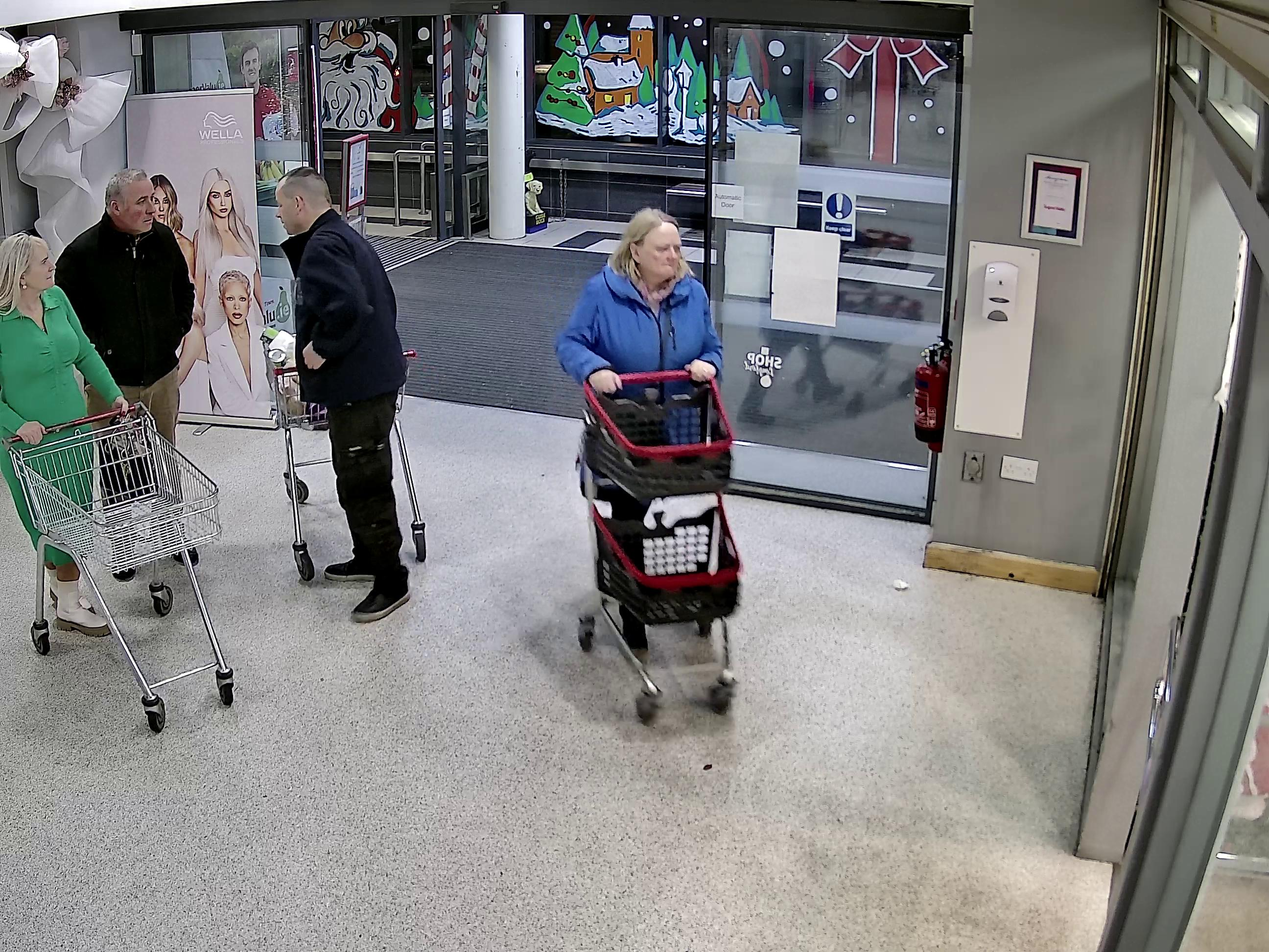empty-trolly: (4, 399, 235, 733), (582, 366, 744, 724)
filled-trolly: (266, 333, 425, 580)
person: (553, 208, 725, 655), (275, 167, 412, 625), (0, 234, 127, 634)
person-with-empty-basket-trolly: (0, 234, 235, 730), (552, 208, 745, 727)
person-with-filled-basket-trolly: (266, 167, 425, 625)
